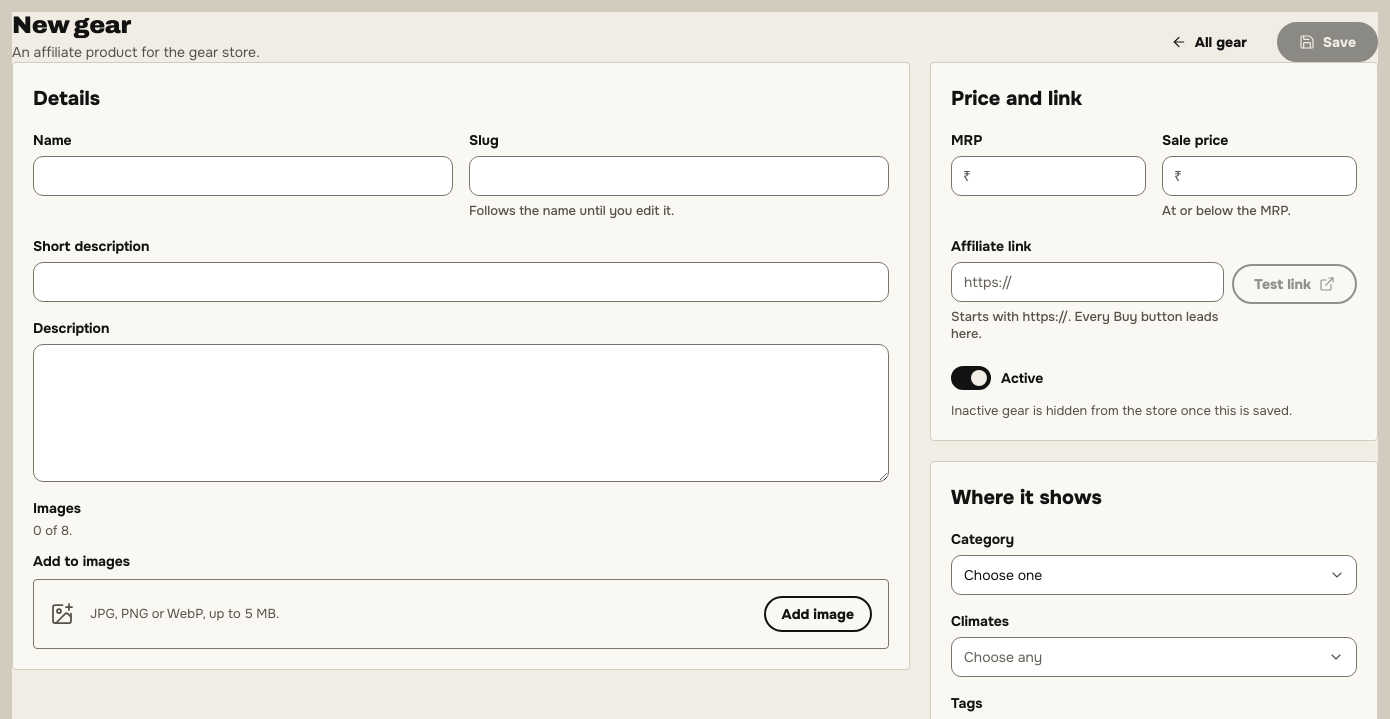
Test: GearEditPage: new gear › asks for what an item needs before saving
Expected: the heading "New gear" is shown, left=12, top=12, right=131, bottom=38
Step 1. Type "Storm Shell" into the field labelled "Name" → (243, 176), box left=33, top=156, right=453, bottom=196
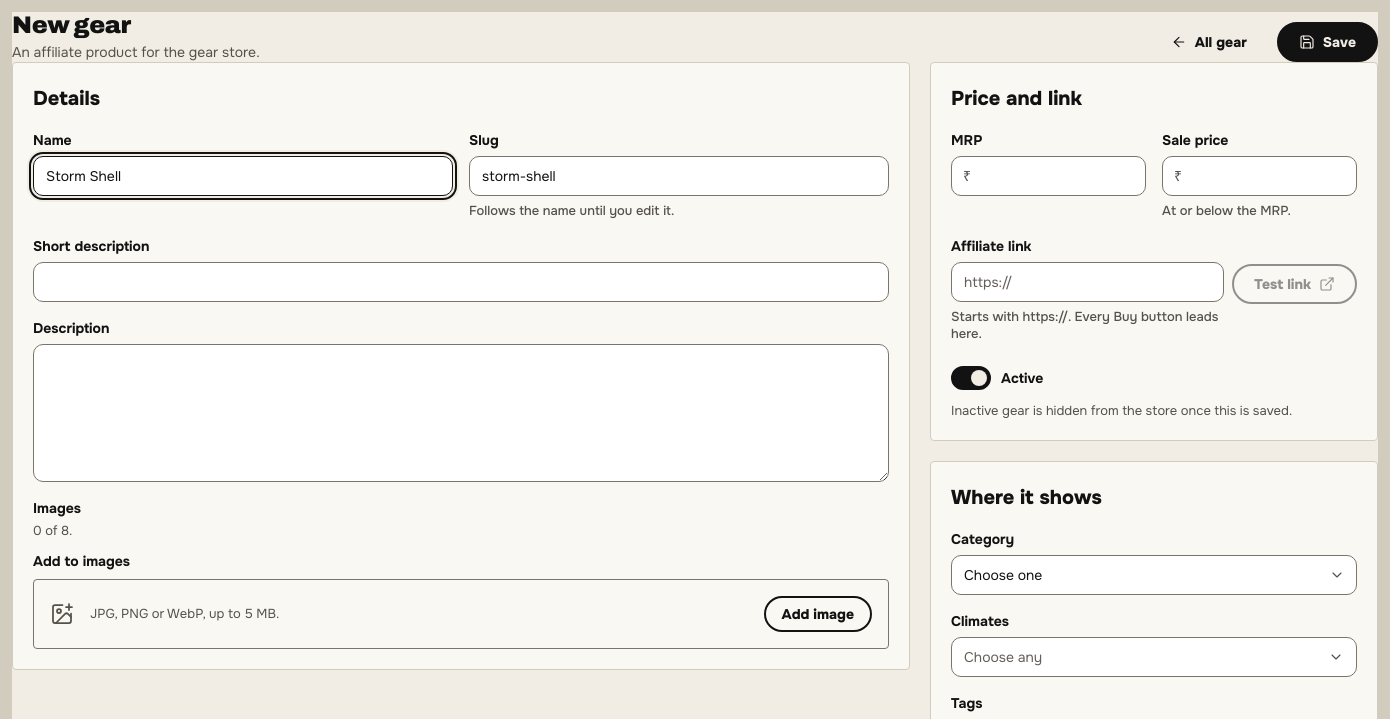
Expected: the field labelled "Slug" holds "storm-shell", left=469, top=156, right=889, bottom=196
Step 2. Click the button "Save" → (1327, 42), box left=1277, top=22, right=1378, bottom=62
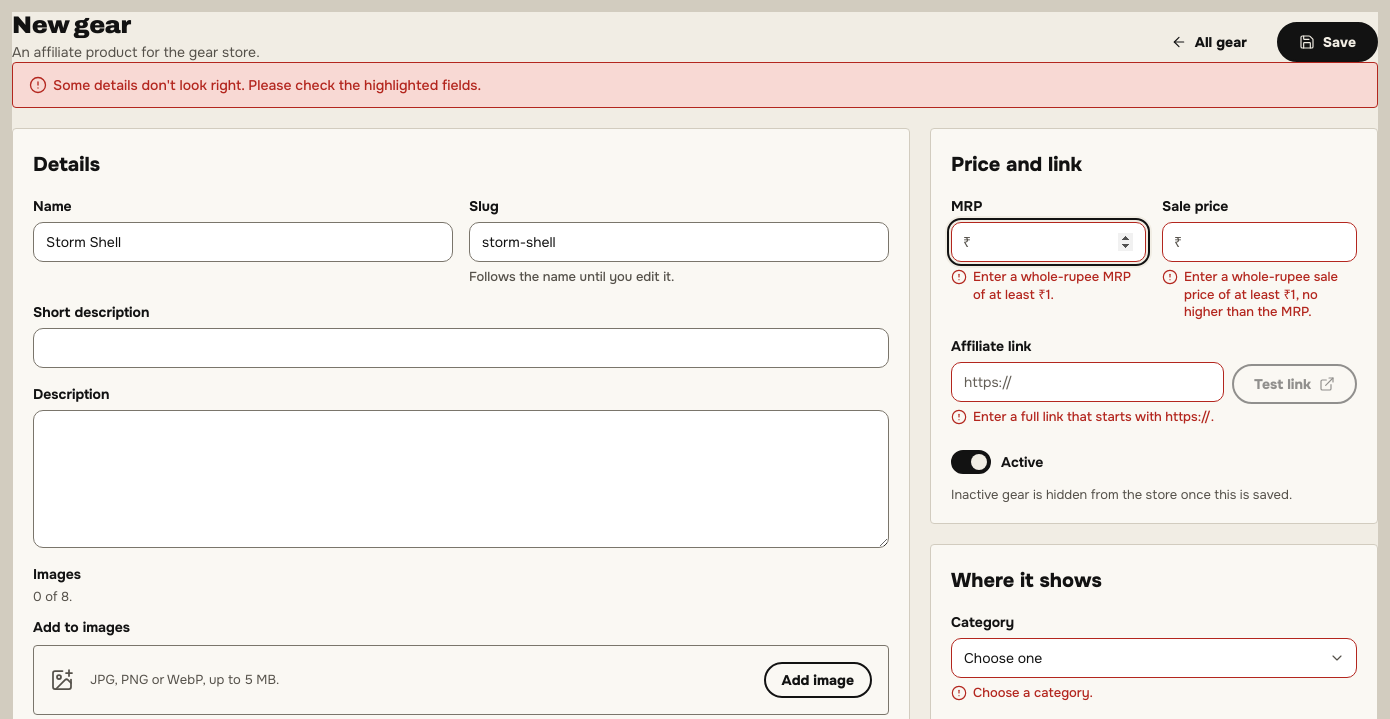
Expected: the text "Some details don't look right. Please check the highlighted fields." is shown, left=53, top=75, right=481, bottom=95
